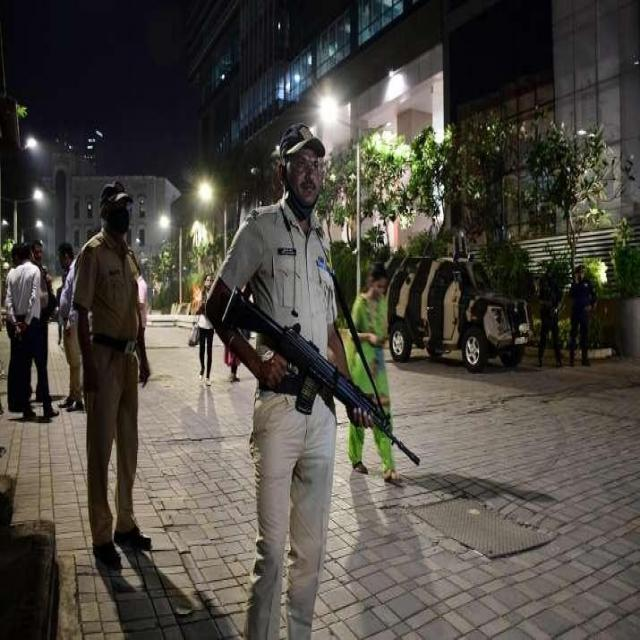gun: (223, 286, 421, 465)
